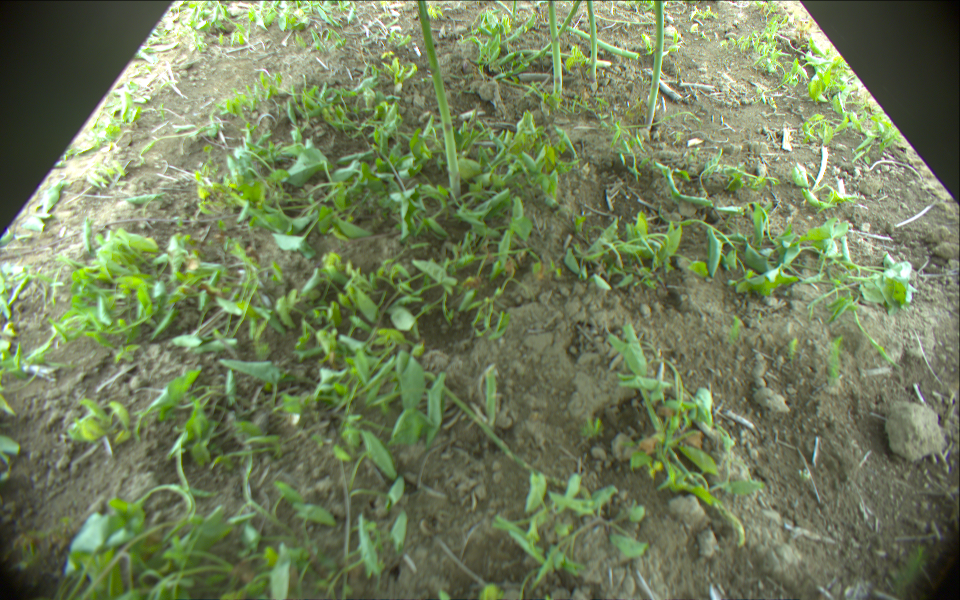aspa: (417, 1, 461, 203), (539, 21, 636, 60), (525, 1, 580, 62), (643, 1, 666, 132), (504, 47, 612, 69), (543, 1, 564, 97), (586, 1, 598, 83), (483, 364, 497, 428), (512, 1, 518, 18)
